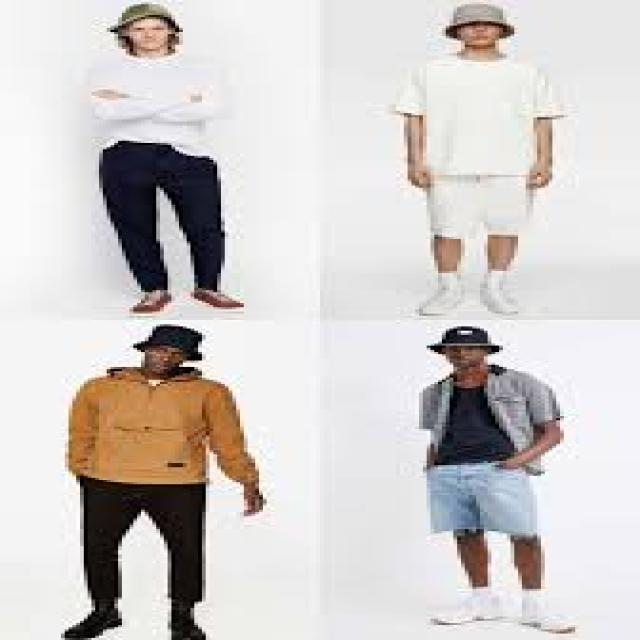hat: (99, 5, 191, 56), (438, 2, 522, 51), (126, 326, 210, 372), (423, 324, 507, 367)
